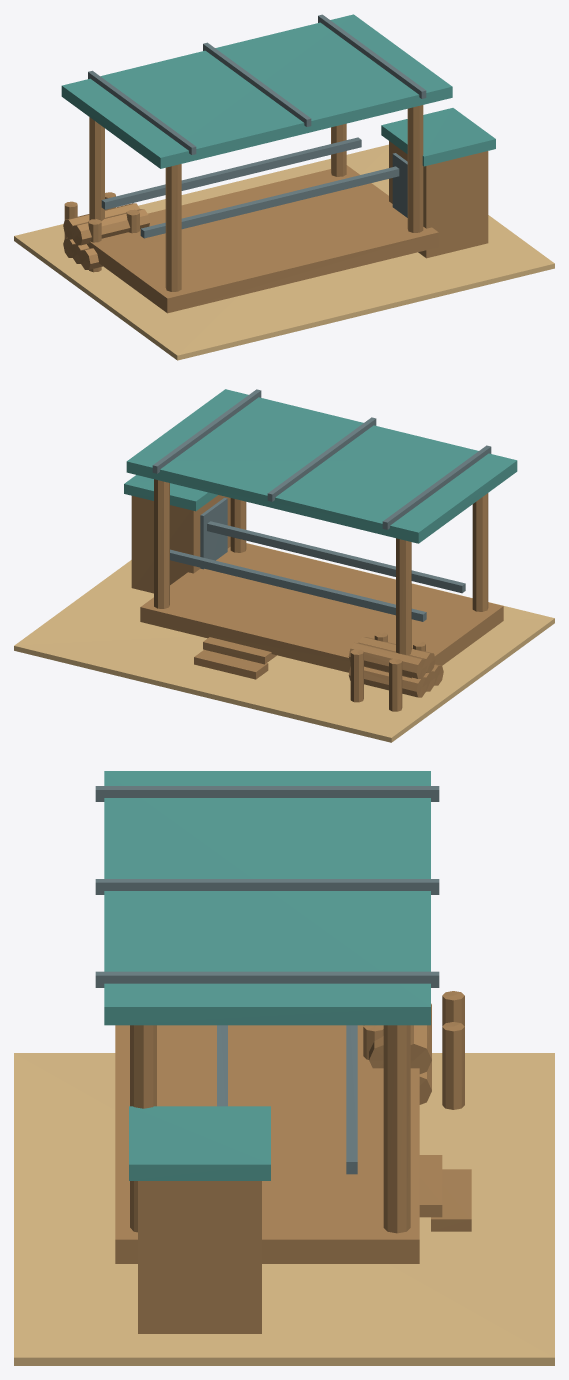
The model's file is Logging-Camp.glb.
3 renders of one model, top to bottom at view 1: azimuth 30°, elevation 25°; view 2: azimuth 150°, elevation 25°; view 3: azimuth 270°, elevation 25°, orthographic. The views are drawn at different scales.
Parts seen in each view (by area): view 1: logging-camp-static-logging-timber, logging-camp-static-logging-teal-roof, logging-camp-static-logging-earth, logging-camp-static-logging-metal, logging-camp-static-logging-cut-end; view 2: logging-camp-static-logging-timber, logging-camp-static-logging-teal-roof, logging-camp-static-logging-earth, logging-camp-static-logging-metal, logging-camp-static-logging-cut-end; view 3: logging-camp-static-logging-earth, logging-camp-static-logging-teal-roof, logging-camp-static-logging-timber, logging-camp-static-logging-metal, logging-camp-static-logging-cut-end.
Boxes of the visible parts, box(x1,y1,x2,y2) form: logging-camp-static-logging-timber: box(64, 105, 488, 313); logging-camp-static-logging-teal-roof: box(61, 14, 495, 168); logging-camp-static-logging-earth: box(14, 144, 554, 360); logging-camp-static-logging-metal: box(88, 14, 426, 238); logging-camp-static-logging-cut-end: box(63, 203, 149, 269); logging-camp-static-logging-timber: box(131, 479, 503, 711); logging-camp-static-logging-teal-roof: box(124, 389, 517, 543); logging-camp-static-logging-earth: box(14, 543, 554, 742); logging-camp-static-logging-metal: box(152, 389, 491, 621); logging-camp-static-logging-cut-end: box(348, 637, 443, 697); logging-camp-static-logging-earth: box(14, 1053, 554, 1365); logging-camp-static-logging-teal-roof: box(104, 771, 430, 1180); logging-camp-static-logging-timber: box(115, 991, 471, 1333); logging-camp-static-logging-metal: box(95, 786, 439, 1174); logging-camp-static-logging-cut-end: box(369, 1003, 431, 1104).
Bounding box in the file's own units: 6.4 × 3 × 4.8.
